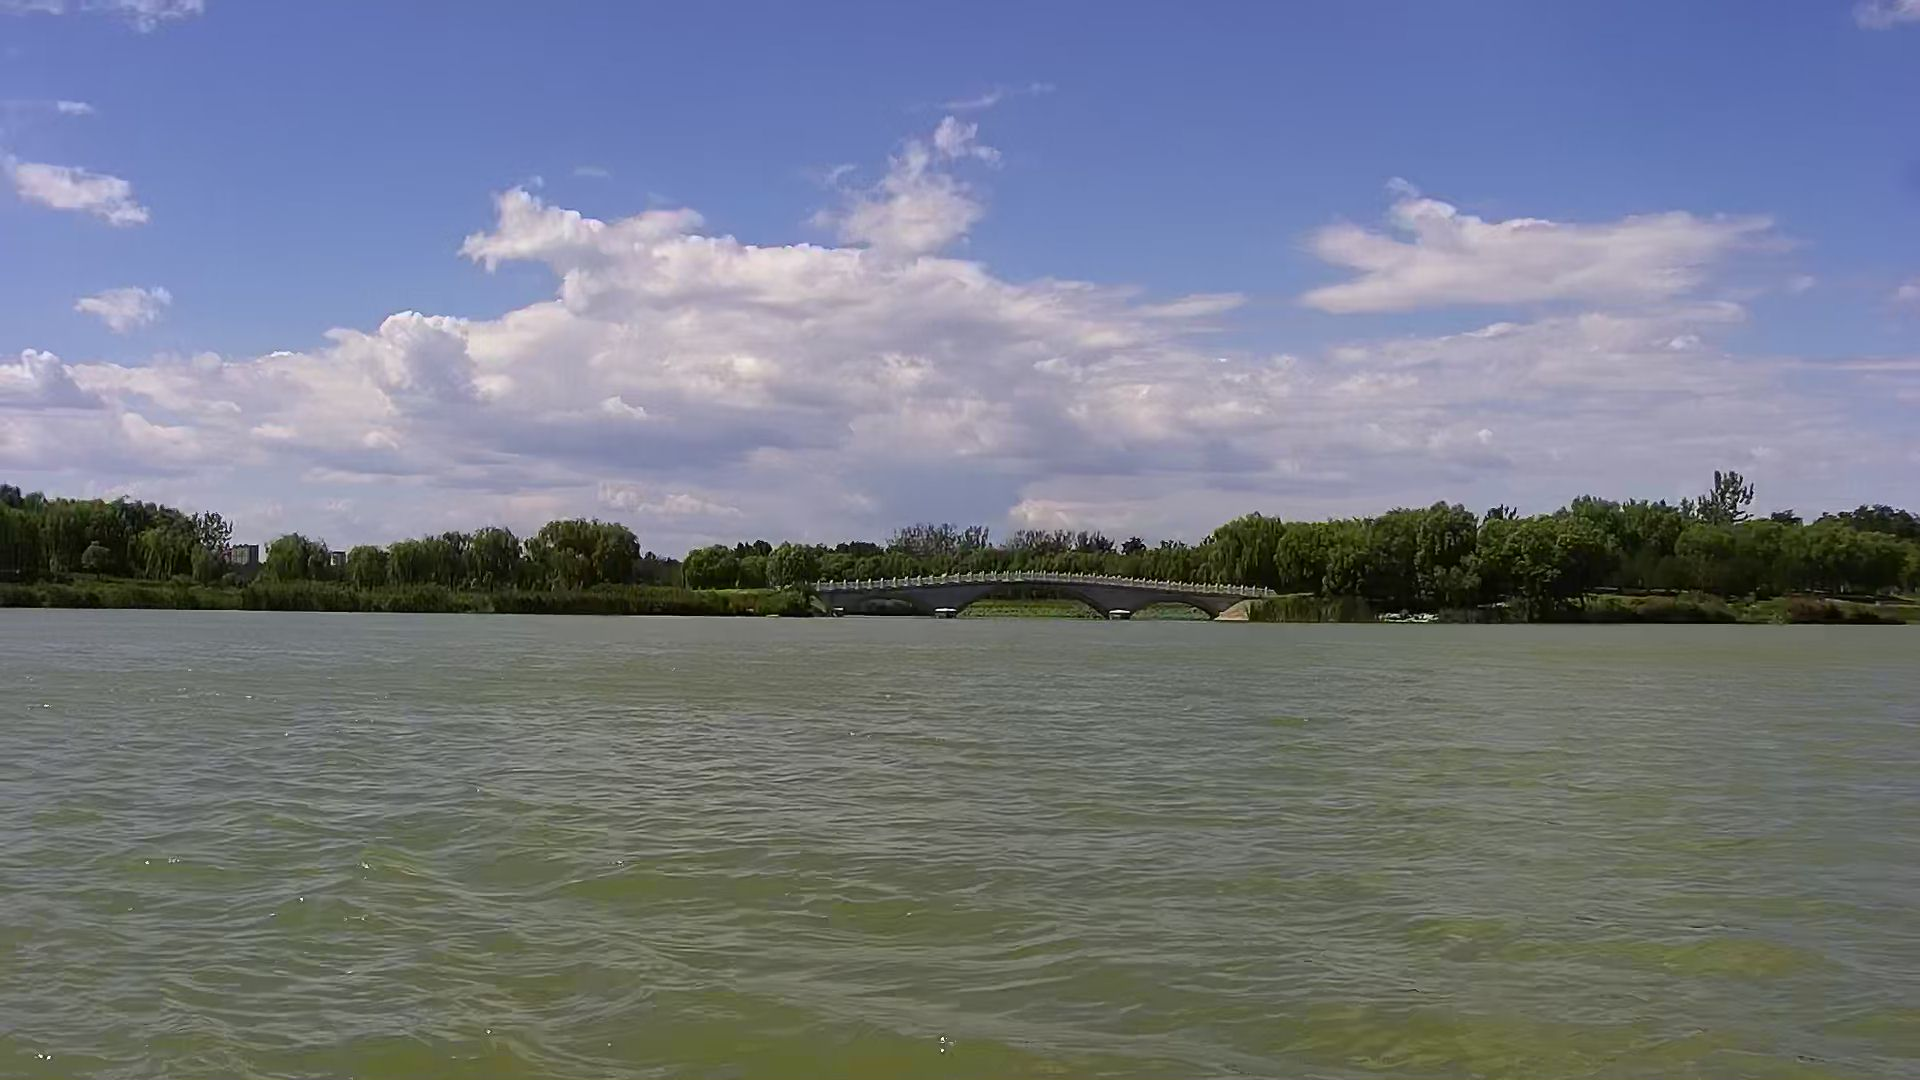bridge: (787, 558, 1290, 632)
